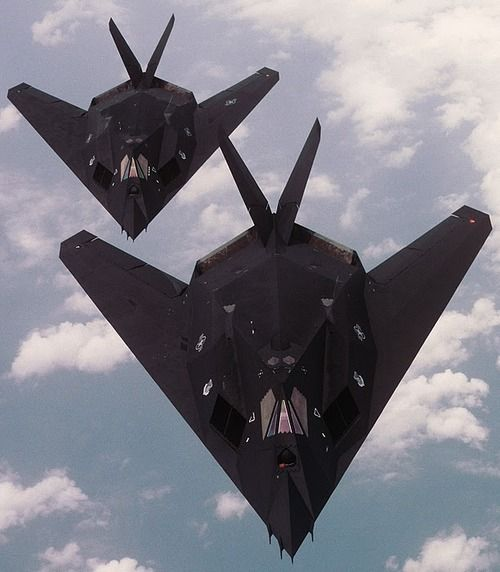Aeronef_militaire: (48, 119, 496, 568), (6, 10, 286, 248)
